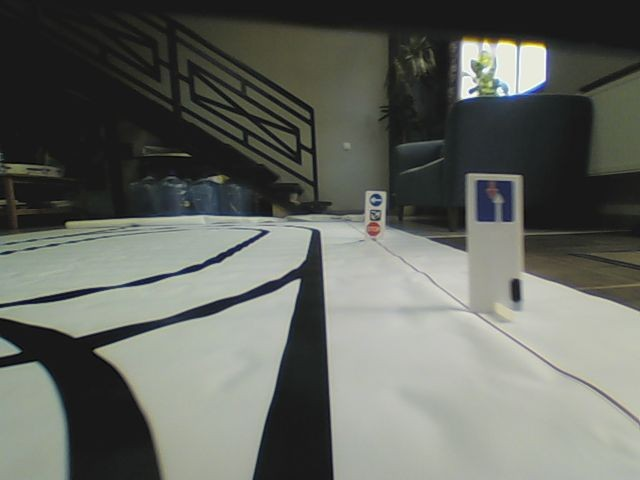priority_movement: (476, 177, 515, 225)
